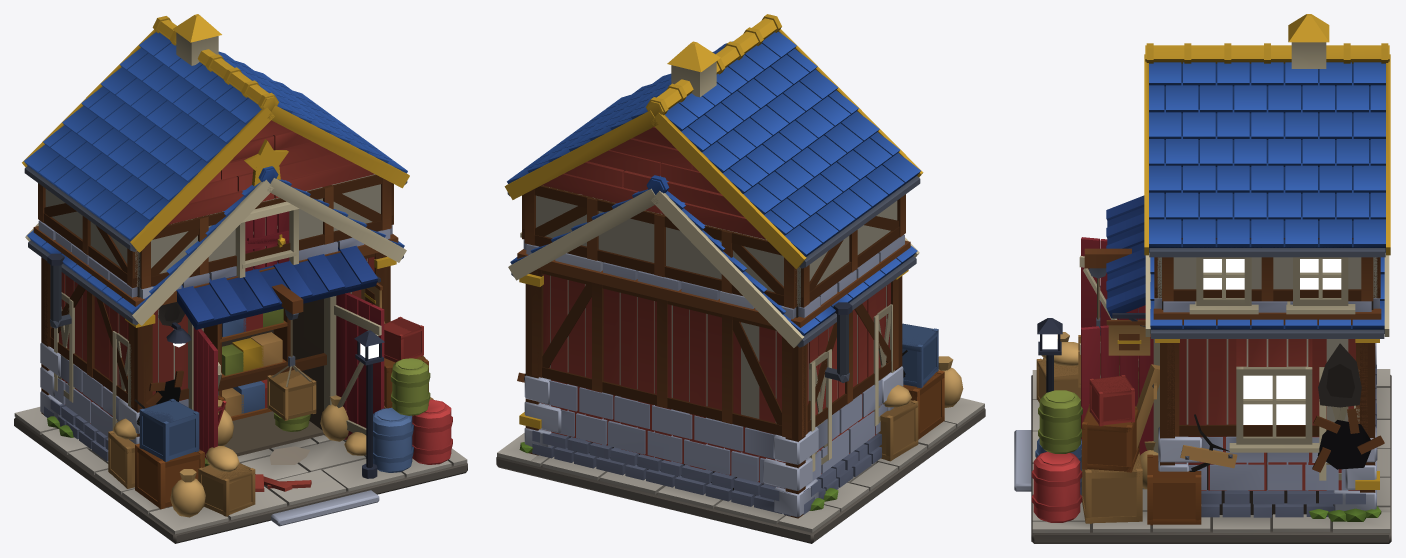
File: b_lager.glb
3 views of the same model, side by side, from view 1: azimuth 30°, elevation 25°; view 2: azimuth 150°, elevation 25°; view 3: azimuth 270°, elevation 25° (orthographic). The views are drawn at different scales.
Parts seen in each view (by area): view 1: lv7_stock, body, lv4_haus, lv4_ausbau, lvmax6_dach, lvmax3_haus, fill1_kisten, fill4_kisten, fill2_kisten, fill3_kisten, sway_haken, dmg2_bruch (+1 smaller); view 2: lv7_stock, lv4_haus, lvmax3_haus, body, lvmax6_dach, fill3_kisten, fill1_kisten; view 3: lv7_stock, body, lvmax3_haus, lv4_haus, fill4_kisten, fill2_kisten, lvmax6_dach, lv4_ausbau, dmg2_bruch, win_glow, dmg1_spuren, lv7_win_glow (+3 smaller).
Part boxes in pixels (left/top/right/bottom): lv7_stock: left=22, top=14, right=409, bottom=327; body: left=14, top=253, right=467, bottom=543; lv4_haus: left=40, top=252, right=384, bottom=444; lv4_ausbau: left=176, top=245, right=384, bottom=478; lvmax6_dach: left=25, top=166, right=406, bottom=325; lvmax3_haus: left=41, top=255, right=390, bottom=436; fill1_kisten: left=135, top=443, right=255, bottom=517; fill4_kisten: left=112, top=316, right=430, bottom=441; fill2_kisten: left=344, top=397, right=452, bottom=472; fill3_kisten: left=108, top=399, right=239, bottom=488; sway_haken: left=267, top=320, right=316, bottom=420; dmg2_bruch: left=146, top=370, right=311, bottom=491; lv7_stock: left=504, top=14, right=923, bottom=429; lv4_haus: left=524, top=269, right=903, bottom=517; lvmax3_haus: left=525, top=269, right=902, bottom=518; body: left=496, top=302, right=985, bottom=543; lvmax6_dach: left=508, top=175, right=919, bottom=347; fill3_kisten: left=878, top=323, right=938, bottom=461; fill1_kisten: left=903, top=356, right=963, bottom=439; lv7_stock: left=1144, top=14, right=1390, bottom=489; body: left=1014, top=237, right=1391, bottom=543; lvmax3_haus: left=1160, top=339, right=1375, bottom=492; lv4_haus: left=1158, top=339, right=1376, bottom=510; fill4_kisten: left=1038, top=375, right=1201, bottom=525; fill2_kisten: left=1031, top=438, right=1142, bottom=523; lvmax6_dach: left=1145, top=253, right=1389, bottom=338; lv4_ausbau: left=1037, top=195, right=1145, bottom=392; dmg2_bruch: left=1136, top=364, right=1384, bottom=472; win_glow: left=1243, top=375, right=1305, bottom=424; dmg1_spuren: left=1152, top=343, right=1361, bottom=471; lv7_win_glow: left=1203, top=259, right=1341, bottom=289.
Bounding box in the file's own units: 5.5 × 7.19 × 5.47.
